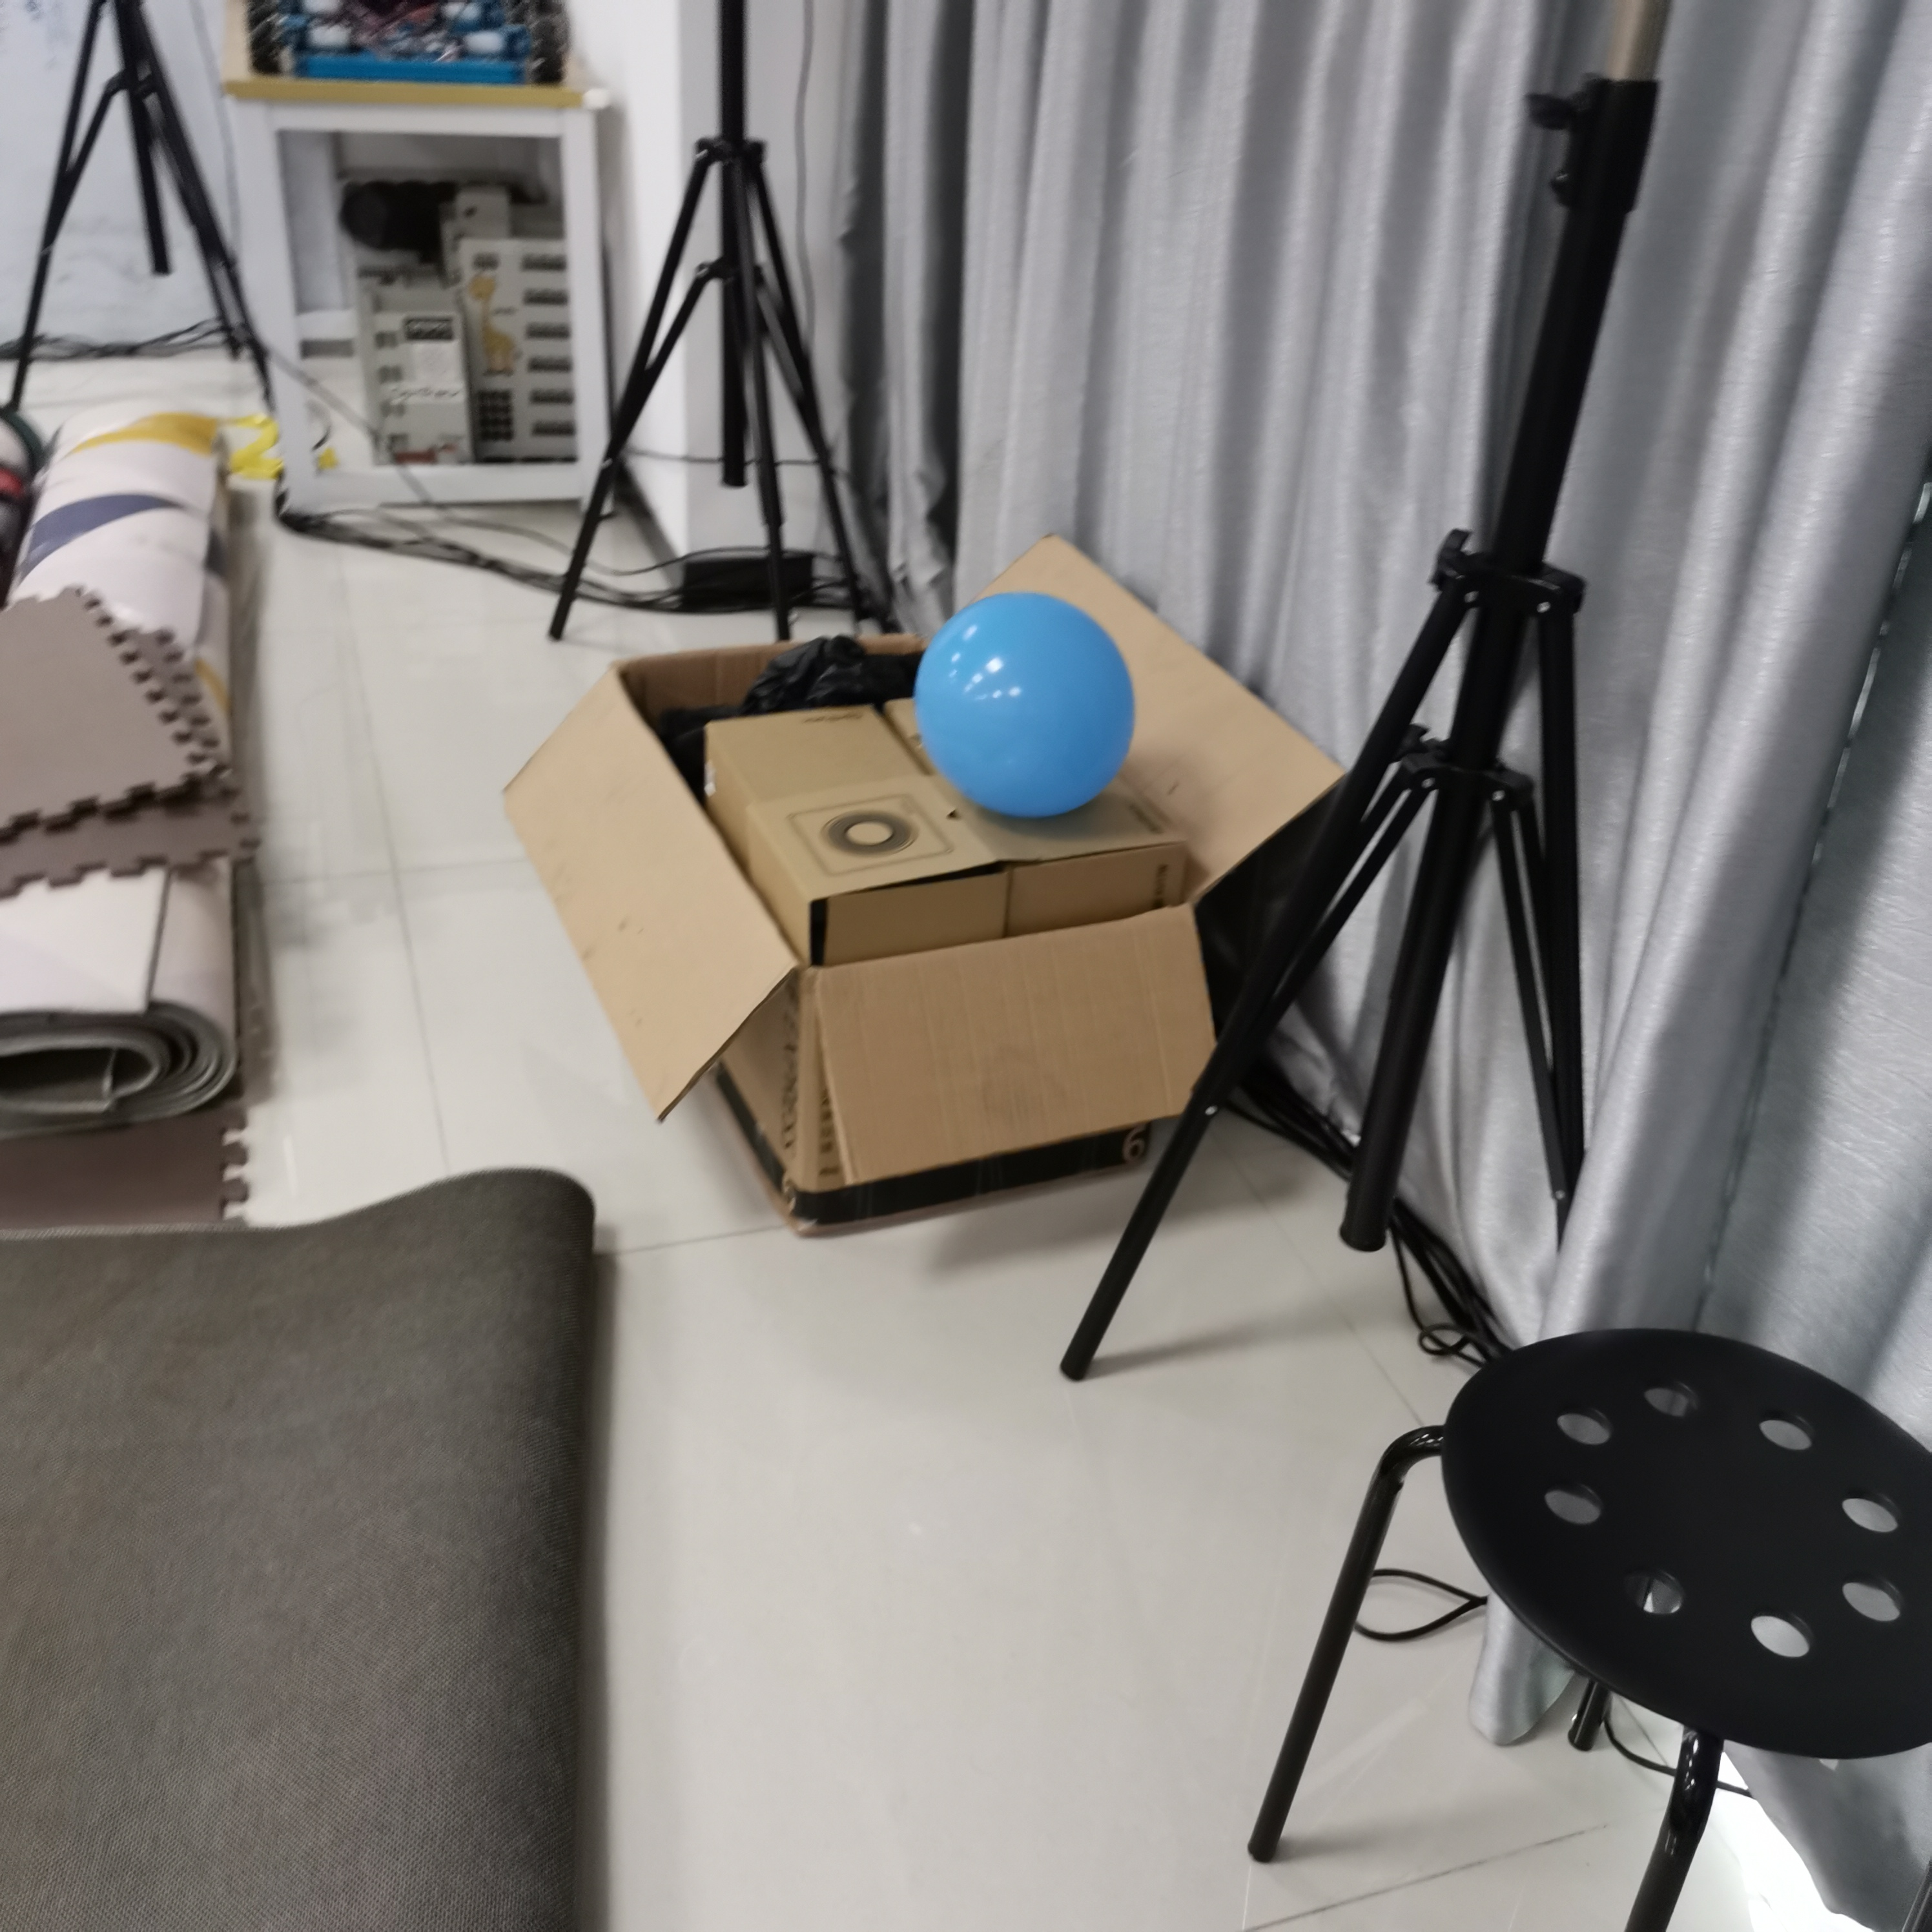balloon: (913, 593, 1136, 821)
